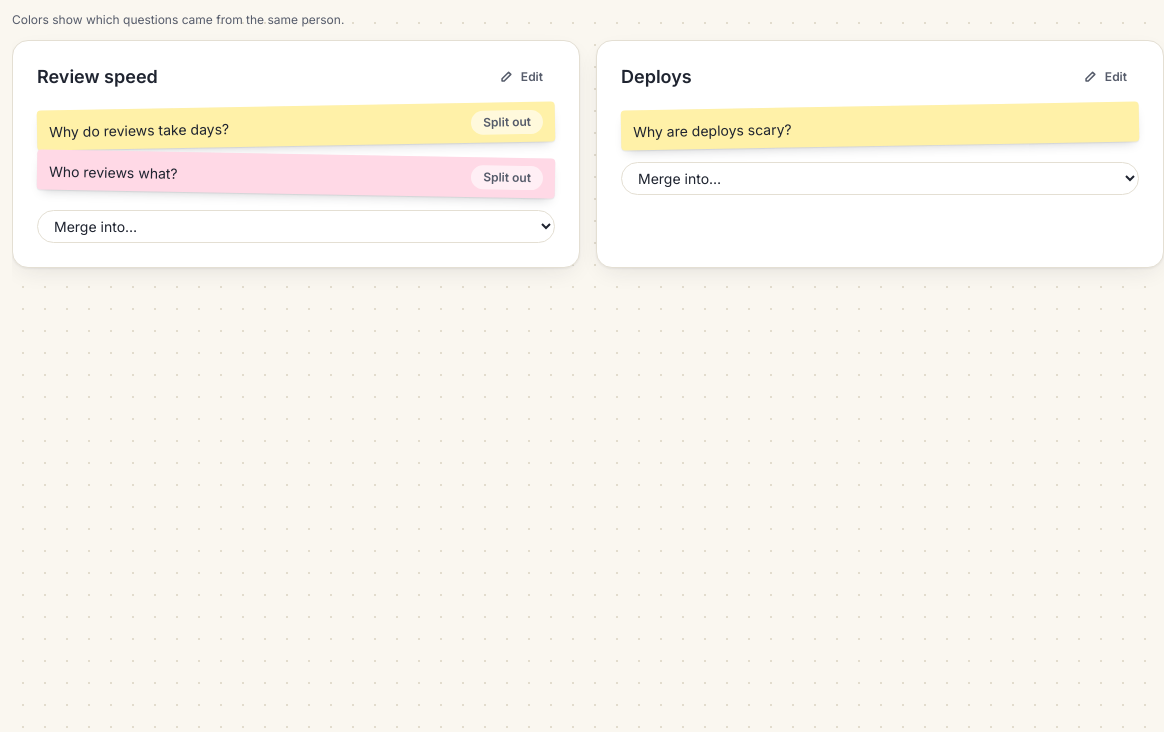
Consolidate › saves with the Save button
Click the button with aria-label "Edit question: Deploys" at (1105, 77), box x1=1071 y1=65 x2=1139 y2=89
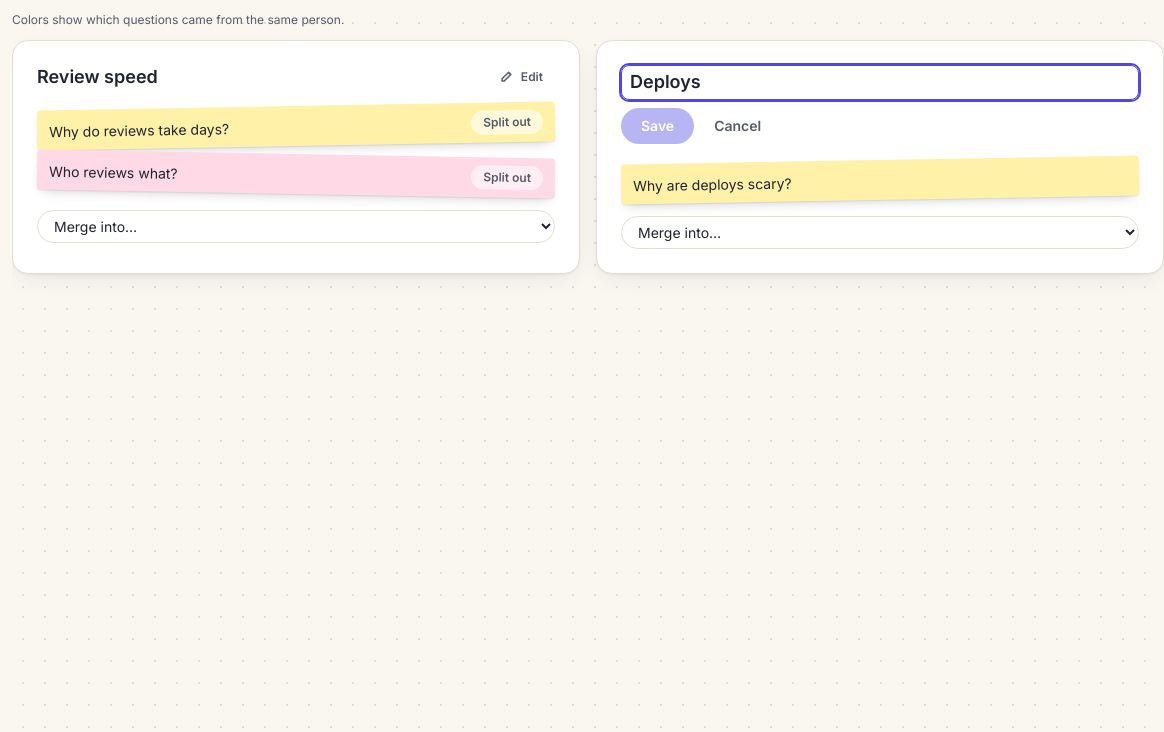
Type " safety" into the text box named "Question wording" at (880, 82), box x1=621 y1=65 x2=1139 y2=100
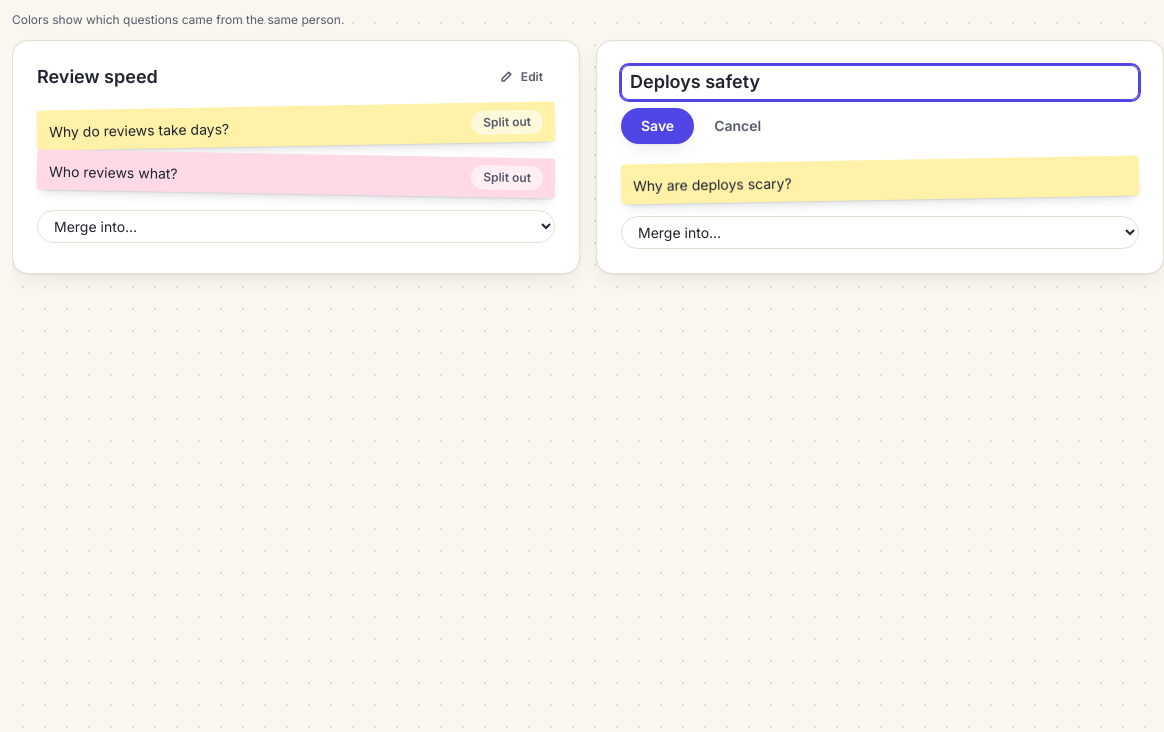
Click the button "Save" at (658, 126), box x1=621 y1=108 x2=694 y2=144
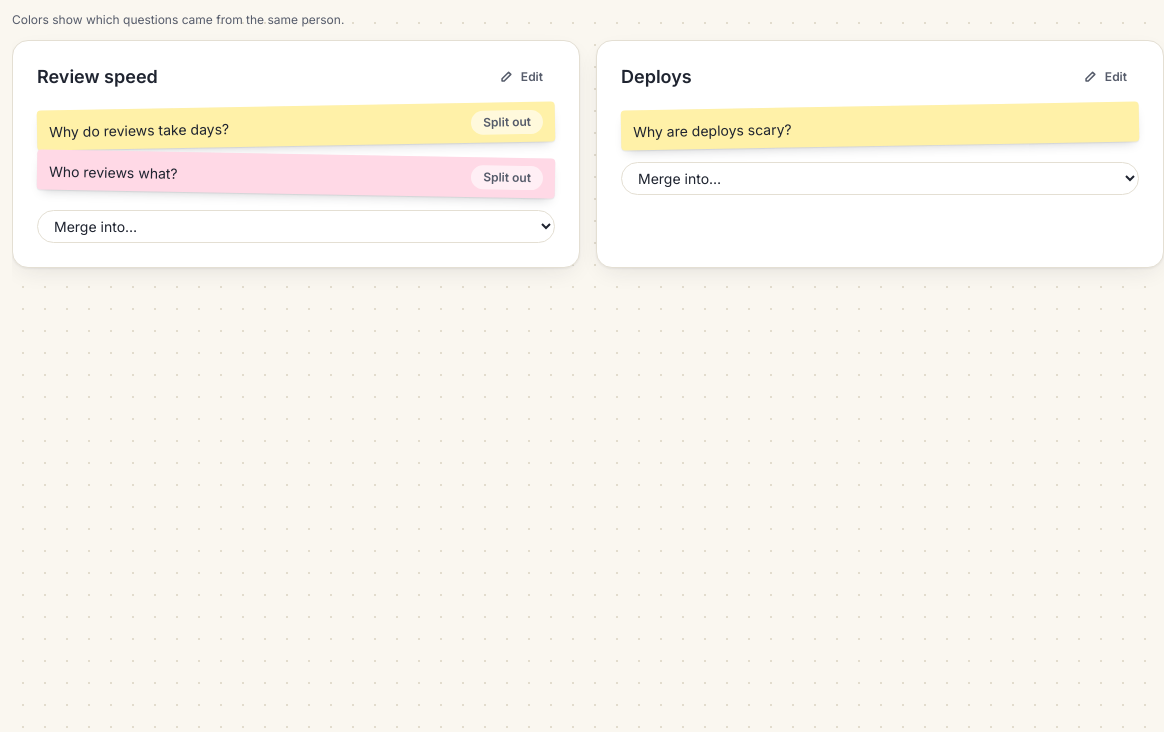
Now the button with aria-label "Edit question: Deploys" is shown, box x1=1071 y1=65 x2=1139 y2=89
